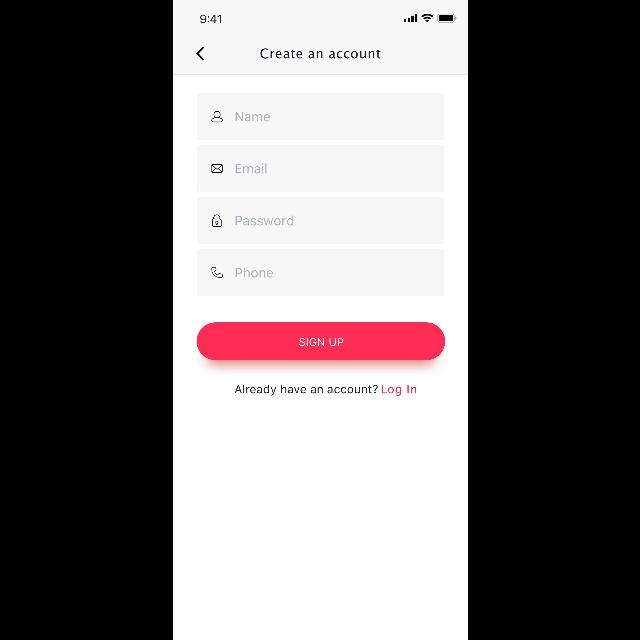icon: (210, 111, 222, 122), (211, 215, 221, 227), (195, 47, 202, 61), (210, 165, 222, 173)
image: (210, 268, 222, 278)
input: (196, 198, 444, 245), (196, 94, 444, 140), (196, 146, 444, 192), (196, 250, 444, 296)
text: (234, 384, 416, 396), (260, 49, 380, 60), (235, 216, 293, 226), (234, 268, 272, 278), (235, 112, 269, 122), (234, 164, 266, 174)
textbutton: (196, 323, 444, 361)
uppertaskbar: (199, 14, 456, 24)
